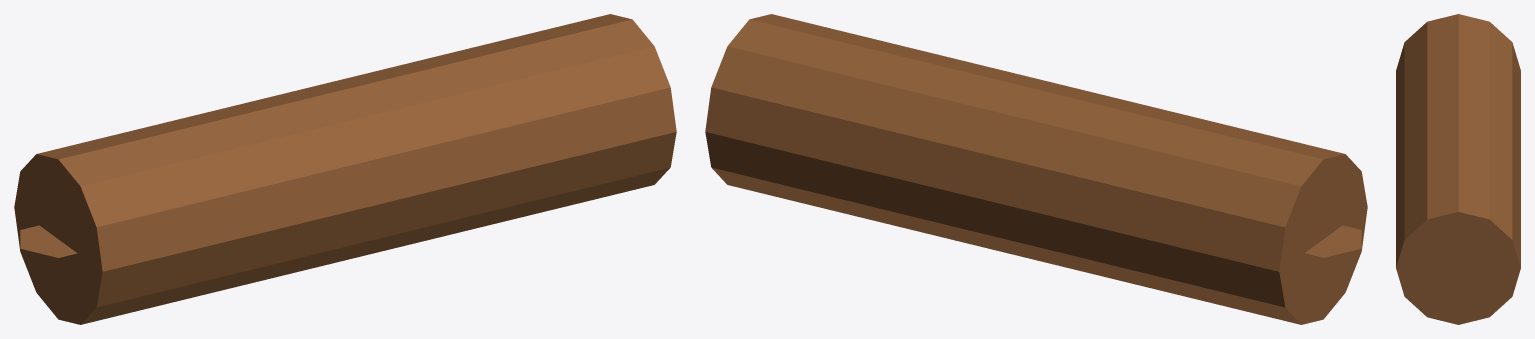
File: rolling_pin.obj
The picture shows the model from 3 angles, left to right: view 1: azimuth 30°, elevation 25°; view 2: azimuth 150°, elevation 25°; view 3: azimuth 270°, elevation 25°; orthographic projection. The views are drawn at different scales.
Visible parts, largest first — view 1: rolling_pin; view 2: rolling_pin; view 3: rolling_pin.
Boxes of the visible parts, x1,y1,x2,y2 form: rolling_pin: (14,14,676,324); rolling_pin: (705,14,1367,324); rolling_pin: (1396,14,1520,324).
Size of the model in its own units: 0.32 by 0.08 by 0.08.
